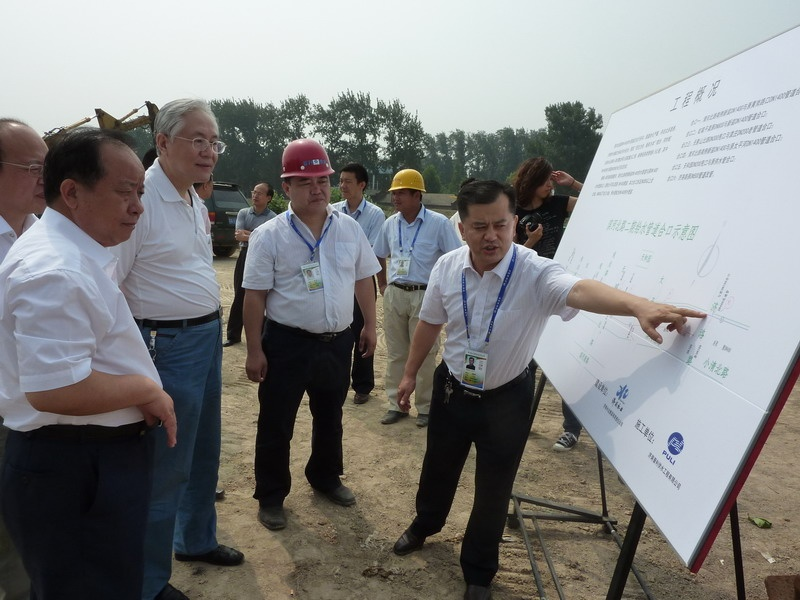none: (36, 127, 152, 243), (154, 97, 223, 176), (456, 177, 519, 263), (3, 112, 52, 217), (519, 154, 555, 201), (337, 164, 370, 204), (248, 180, 276, 209), (191, 173, 216, 200)
red: (279, 137, 335, 214)
yellow: (390, 167, 426, 213)
